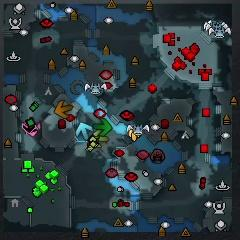x1: (26, 122, 39, 136)
x1Clone: (22, 117, 36, 133)
x2: (91, 129, 109, 142)
x3: (75, 122, 92, 138)
x4: (93, 118, 112, 136)
x5: (54, 101, 72, 118)
